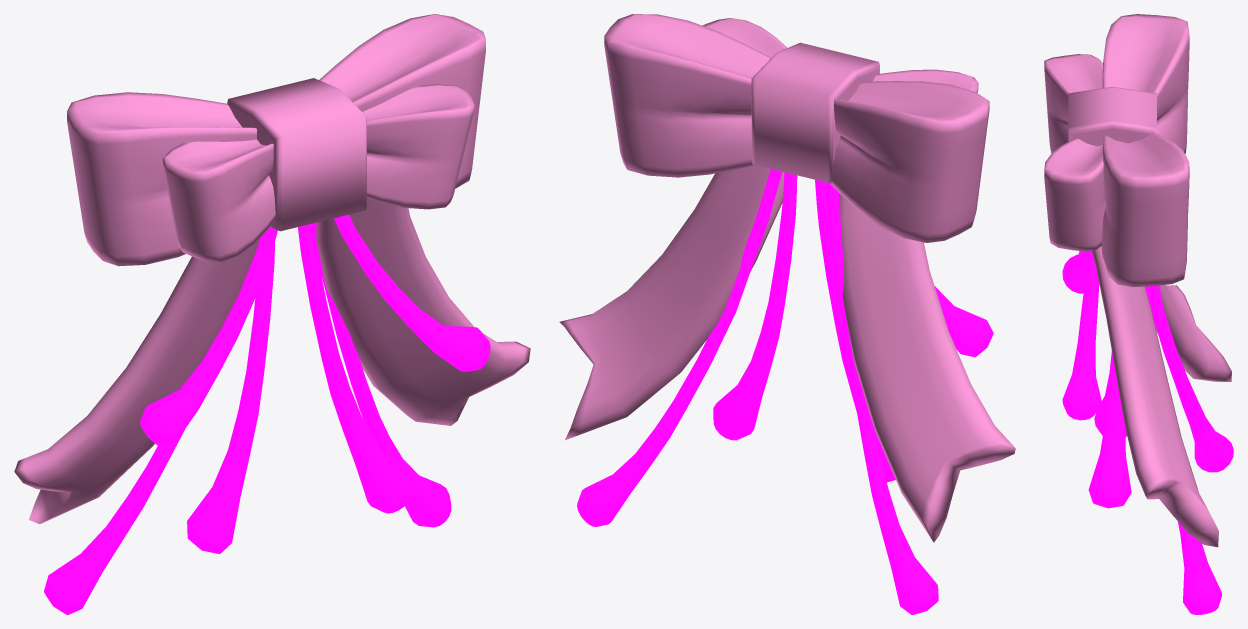
File: jellyFish-bow-2.fbx
The picture shows the model from 3 angles, left to right: view 1: azimuth 30°, elevation 25°; view 2: azimuth 150°, elevation 25°; view 3: azimuth 270°, elevation 25°; orthographic projection. The views are drawn at different scales.
Visible parts, largest first — view 1: 贝塞尔曲线, 大蝴蝶结.002, 蝴蝶结.001, 贝塞尔曲线.003, 蝴蝶结中间.001, 贝塞尔曲线.001, 贝塞尔曲线.002; view 2: 贝塞尔曲线, 大蝴蝶结.002, 贝塞尔曲线.002, 蝴蝶结中间.001, 贝塞尔曲线.003, 蝴蝶结.001, 贝塞尔曲线.001; view 3: 大蝴蝶结.002, 贝塞尔曲线, 蝴蝶结.001, 贝塞尔曲线.002, 蝴蝶结中间.001, 贝塞尔曲线.001, 贝塞尔曲线.003.
Part boxes in pixels (left/top/right/bottom): 贝塞尔曲线: left=14, top=198, right=530, bottom=524; 大蝴蝶结.002: left=67, top=14, right=485, bottom=266; 蝴蝶结.001: left=162, top=84, right=474, bottom=261; 贝塞尔曲线.003: left=187, top=223, right=412, bottom=553; 蝴蝶结中间.001: left=227, top=78, right=366, bottom=231; 贝塞尔曲线.001: left=140, top=214, right=490, bottom=447; 贝塞尔曲线.002: left=44, top=222, right=451, bottom=614; 贝塞尔曲线: left=559, top=165, right=1015, bottom=542; 大蝴蝶结.002: left=604, top=14, right=989, bottom=242; 贝塞尔曲线.002: left=577, top=169, right=938, bottom=614; 蝴蝶结中间.001: left=751, top=42, right=879, bottom=183; 贝塞尔曲线.003: left=713, top=172, right=895, bottom=482; 蝴蝶结.001: left=702, top=18, right=978, bottom=92; 贝塞尔曲线.001: left=934, top=286, right=993, bottom=357; 大蝴蝶结.002: left=1101, top=14, right=1189, bottom=287; 贝塞尔曲线: left=1091, top=246, right=1231, bottom=547; 蝴蝶结.001: left=1044, top=54, right=1116, bottom=251; 贝塞尔曲线.002: left=1145, top=285, right=1233, bottom=614; 蝴蝶结中间.001: left=1068, top=86, right=1156, bottom=146; 贝塞尔曲线.001: left=1062, top=250, right=1101, bottom=420; 贝塞尔曲线.003: left=1088, top=351, right=1131, bottom=508.
Size of the model in its own units: 3.54 by 3.51 by 1.35.
